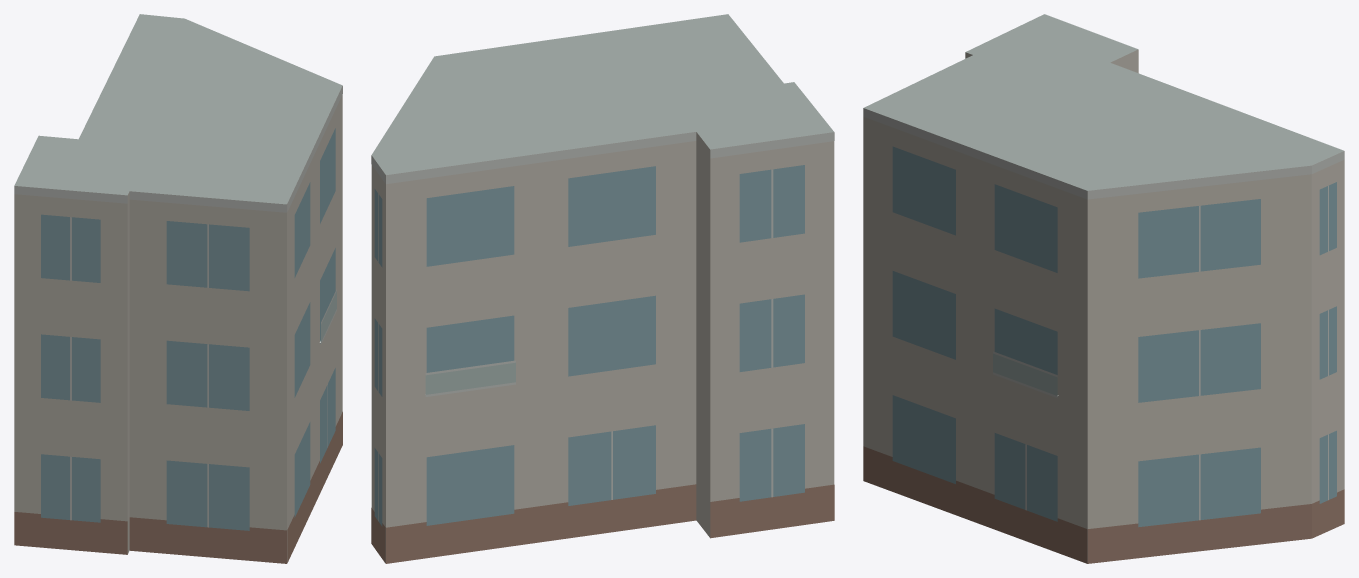
File: survey-upis-32581640.glb
The picture shows the model from 3 angles, left to right: view 1: azimuth 30°, elevation 25°; view 2: azimuth 150°, elevation 25°; view 3: azimuth 270°, elevation 25°; orthographic projection. The views are drawn at different scales.
Visible parts, largest first — view 1: survey-upis-32581640.tmp; view 2: survey-upis-32581640.tmp; view 3: survey-upis-32581640.tmp.
Part boxes in pixels (bbox=[...]): survey-upis-32581640.tmp: bbox=[14, 14, 342, 563]; survey-upis-32581640.tmp: bbox=[371, 14, 834, 563]; survey-upis-32581640.tmp: bbox=[863, 14, 1344, 563].
Bounding box in the file's own units: 10.69 × 10.5 × 12.29.
